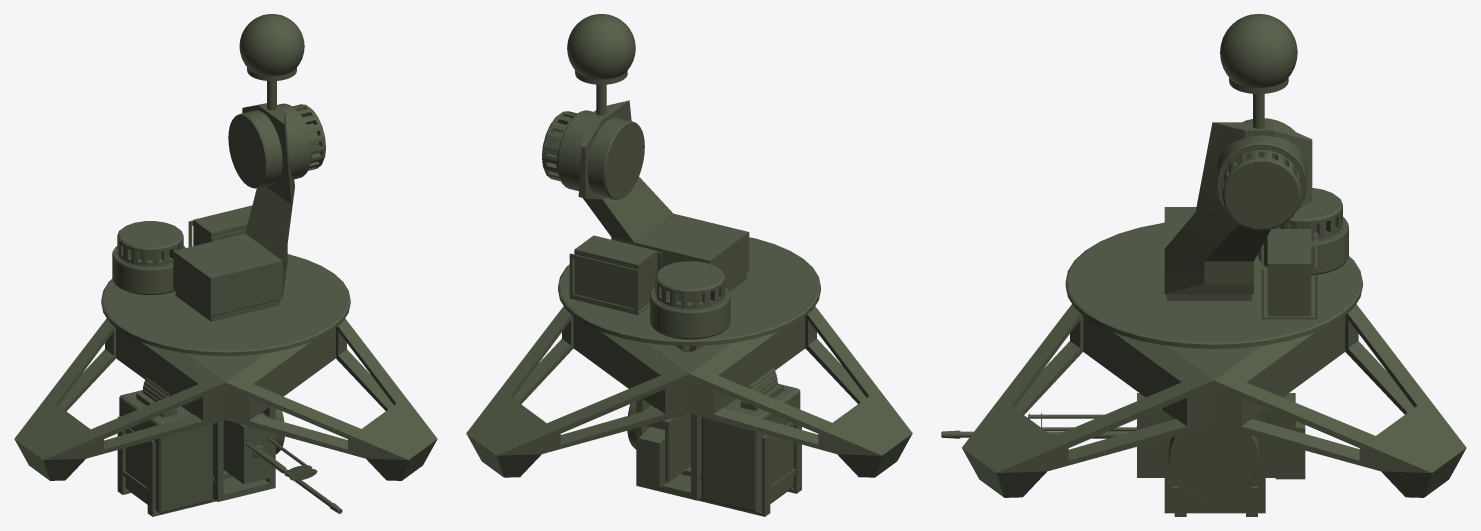
The model's file is ICETurret.fbx.
The picture shows the model from 3 angles, left to right: view 1: azimuth 30°, elevation 25°; view 2: azimuth 150°, elevation 25°; view 3: azimuth 270°, elevation 25°; orthographic projection. The views are drawn at different scales.
Visible parts, largest first — view 1: Tower_2, Base_1_1, Waepon_3, Barrel_4; view 2: Tower_2, Base_1_1, Waepon_3; view 3: Tower_2, Base_1_1, Waepon_3.
Boxes of the visible parts, bbox=[...] form: Tower_2: bbox=[101, 14, 350, 355]; Base_1_1: bbox=[14, 318, 437, 480]; Waepon_3: bbox=[117, 377, 317, 516]; Barrel_4: bbox=[252, 445, 342, 513]; Tower_2: bbox=[542, 14, 820, 351]; Base_1_1: bbox=[466, 306, 912, 477]; Waepon_3: bbox=[627, 368, 801, 516]; Tower_2: bbox=[1065, 14, 1362, 348]; Base_1_1: bbox=[962, 304, 1466, 497]; Waepon_3: bbox=[1028, 393, 1305, 516].
Bounding box in the file's own units: 221 × 290 × 265.
